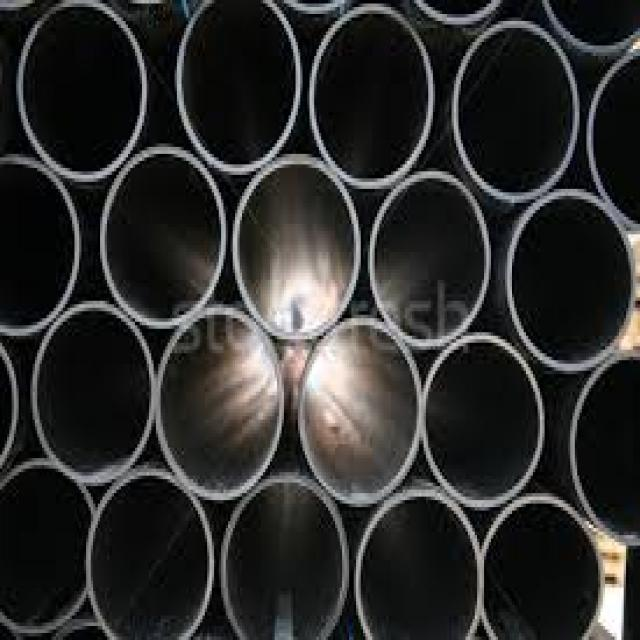pipe: (296, 315, 423, 507), (307, 3, 436, 192), (158, 305, 283, 500), (16, 0, 148, 183), (505, 189, 636, 373), (232, 157, 360, 342), (453, 22, 580, 208), (31, 302, 157, 486), (102, 146, 225, 331), (368, 168, 492, 350), (86, 469, 216, 640), (423, 332, 547, 510), (176, 0, 300, 176), (220, 474, 349, 640), (354, 486, 482, 640), (482, 493, 605, 640), (0, 460, 95, 634), (0, 157, 81, 336), (570, 348, 640, 546), (589, 49, 639, 227)
